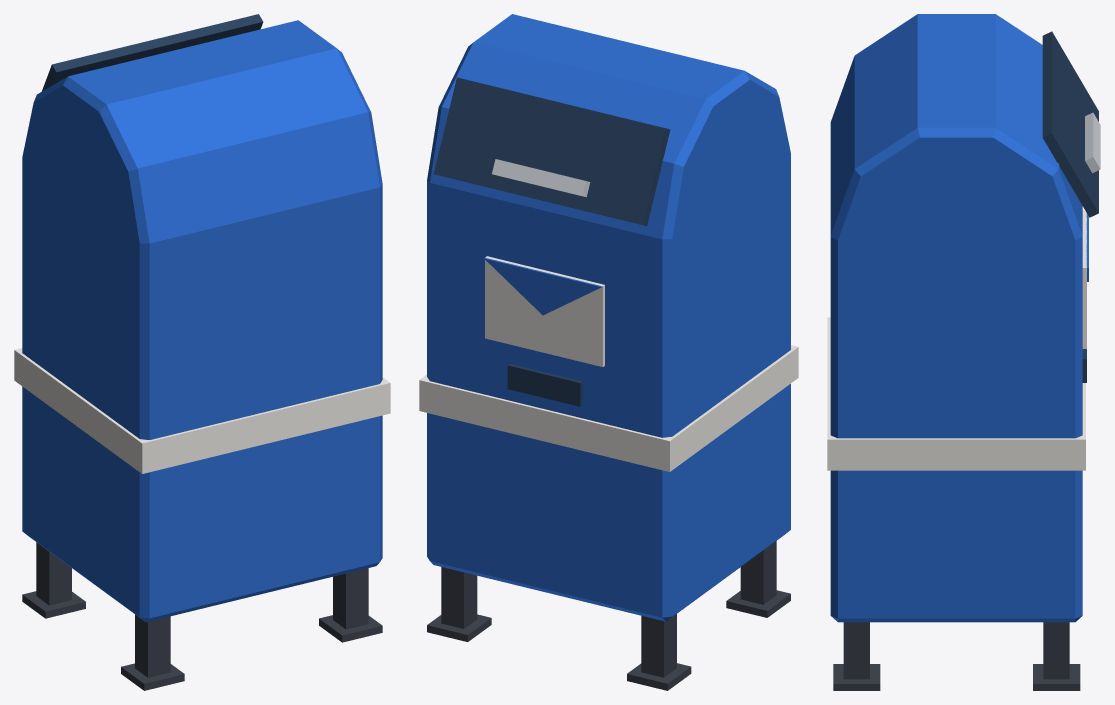
Rendered from mailbox.glb.
3 renders of one model, left to right at view 1: azimuth 30°, elevation 25°; view 2: azimuth 150°, elevation 25°; view 3: azimuth 270°, elevation 25°, orthographic.
Parts seen in each view (by area): view 1: mailbox; view 2: mailbox; view 3: mailbox.
Part boxes in pixels (left/top/right/bottom): mailbox: left=14, top=14, right=390, bottom=690; mailbox: left=419, top=14, right=798, bottom=690; mailbox: left=827, top=14, right=1100, bottom=690.
Size of the model in its own units: 0.552 by 1.18 by 0.5198.
